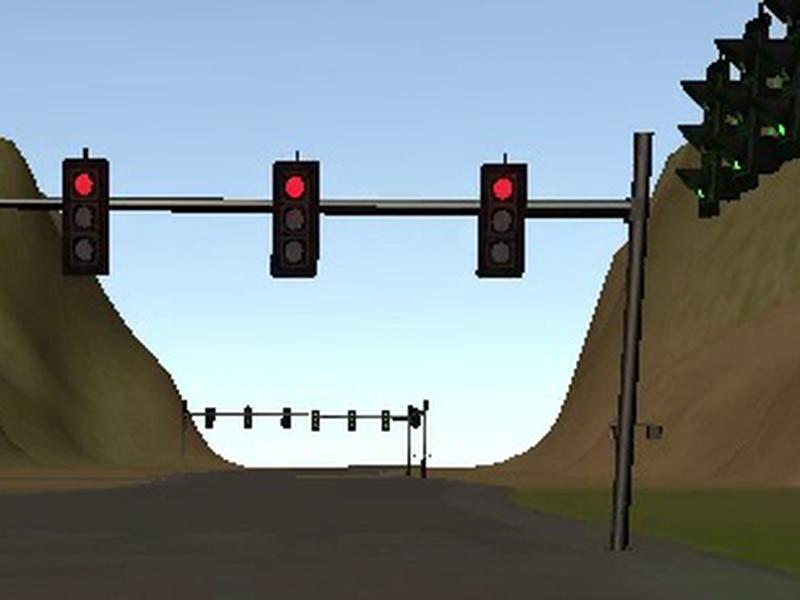Red: (476, 163, 527, 278), (270, 161, 320, 278), (62, 158, 109, 275)
